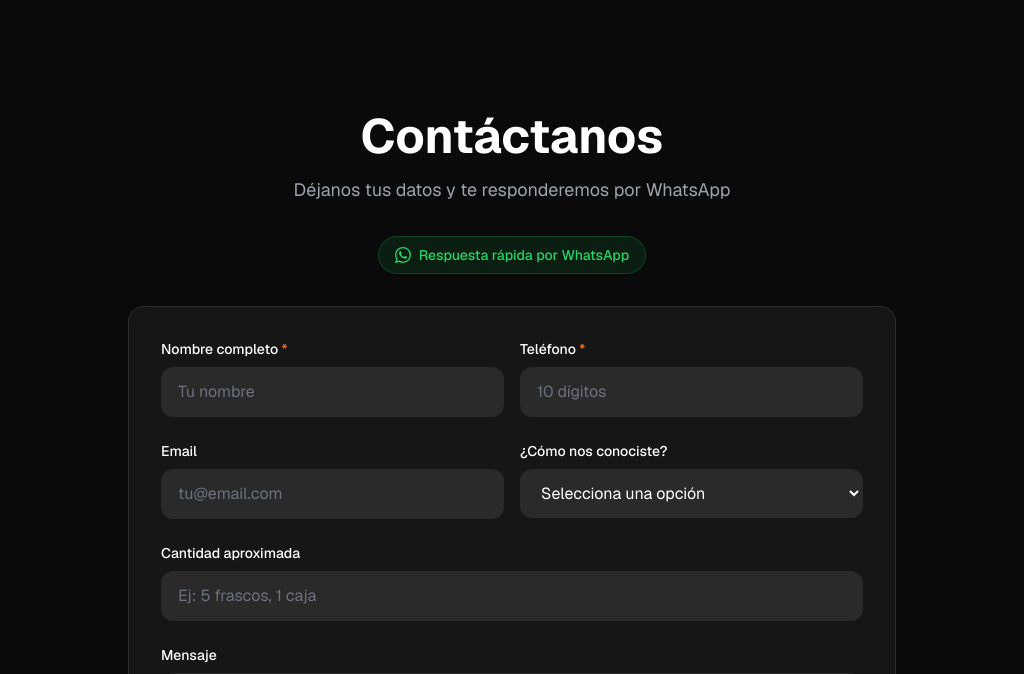
Test: ContactForm › Form Validation › shows error when phone is empty
Type "Juan" into the field labelled "Nombre completo *". click: (332,392)
box: [161,367,504,417]
(page scrolled)
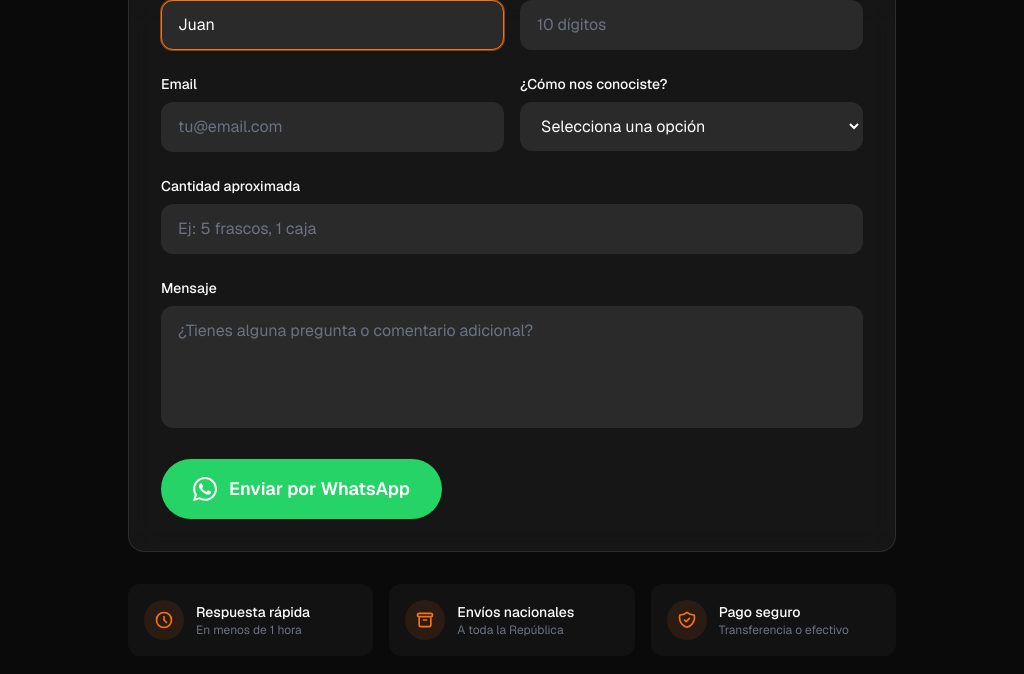
Click the button "Enviar por WhatsApp". click: (302,489)
box: [161,459,442,519]
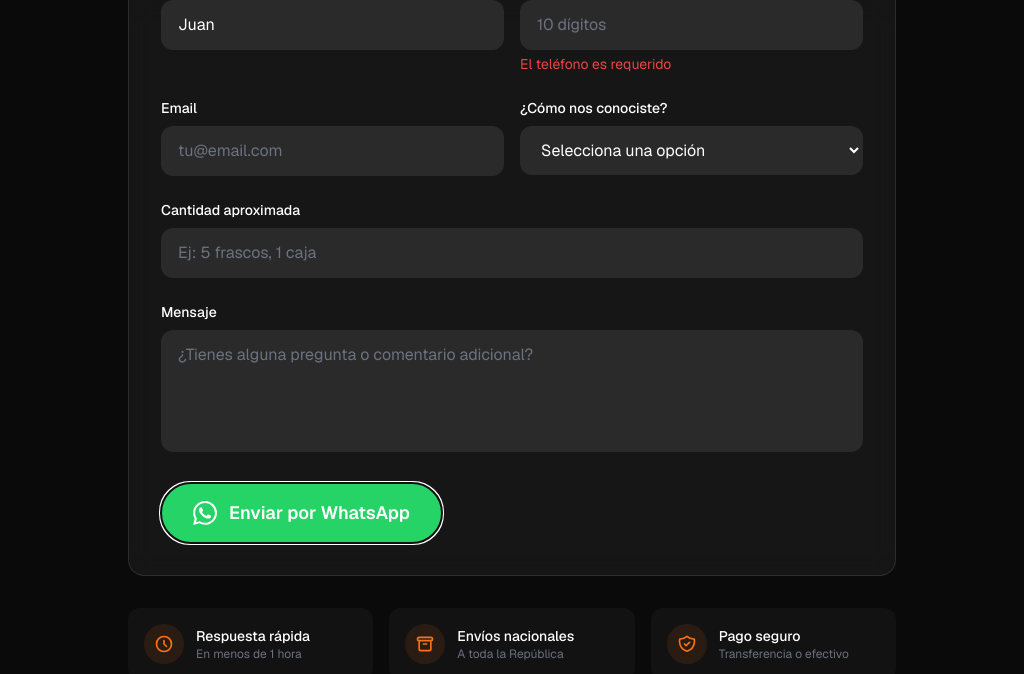
Check: the text "El teléfono es requerido" is shown, box [520,55,671,73]
